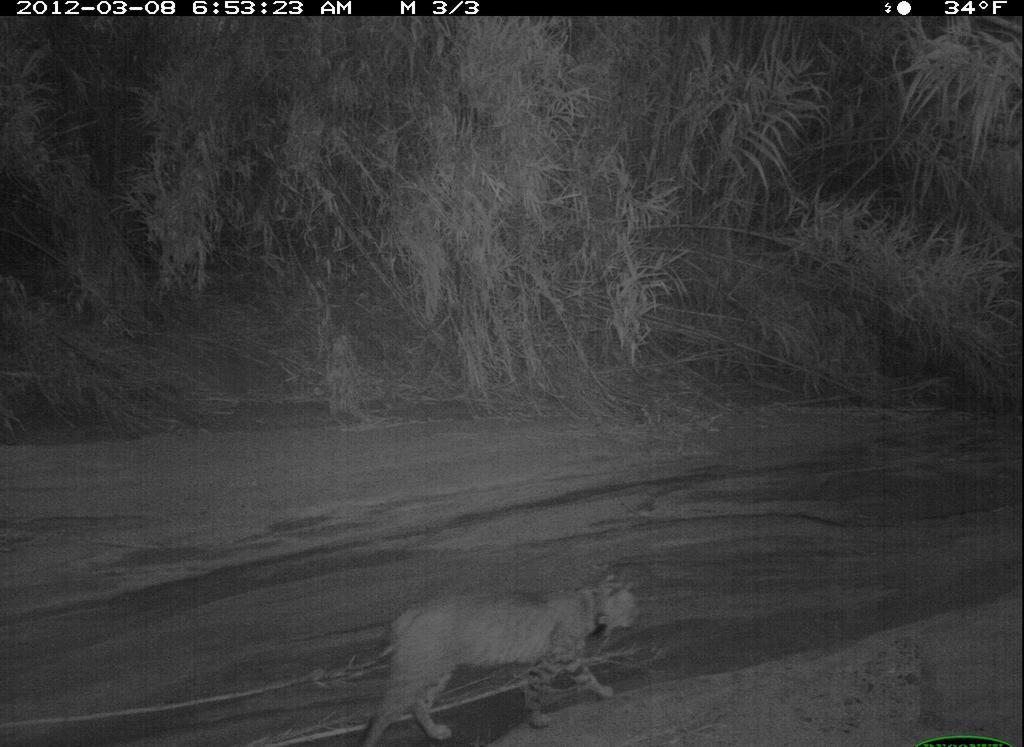bobcat: (318, 564, 660, 747)
